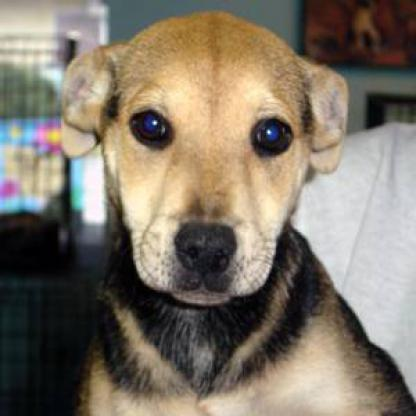dog: (49, 17, 374, 319)
